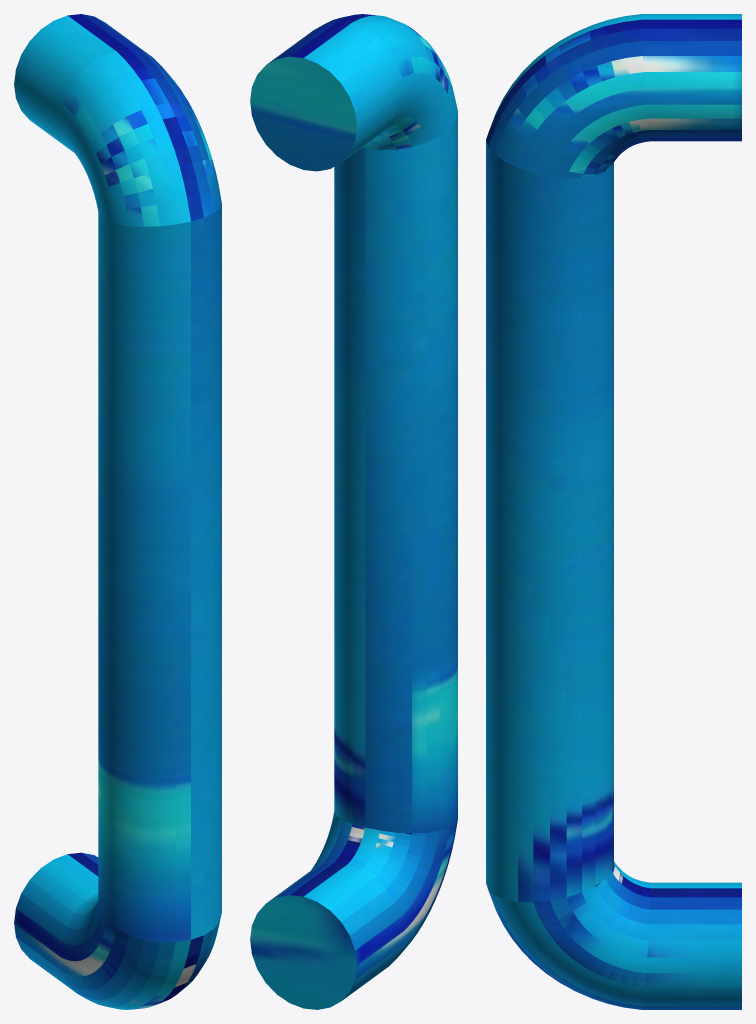
Rendered from original-10.obj.
3 views of the same model, side by side, from view 1: azimuth 30°, elevation 25°; view 2: azimuth 150°, elevation 25°; view 3: azimuth 270°, elevation 25° (orthographic). The views are drawn at different scales.
Visible parts, largest first — view 1: Group5/mesh3/mesh3-geometry#mesh3-geometry; view 2: Group5/mesh3/mesh3-geometry#mesh3-geometry; view 3: Group5/mesh3/mesh3-geometry#mesh3-geometry.
Part boxes in pixels (<box>): Group5/mesh3/mesh3-geometry#mesh3-geometry: <box>14,14,221,1009</box>; Group5/mesh3/mesh3-geometry#mesh3-geometry: <box>250,14,457,1009</box>; Group5/mesh3/mesh3-geometry#mesh3-geometry: <box>486,14,741,1009</box>.
Bounding box in the file's own units: 0.0176 × 0.1496 × 0.0352.
